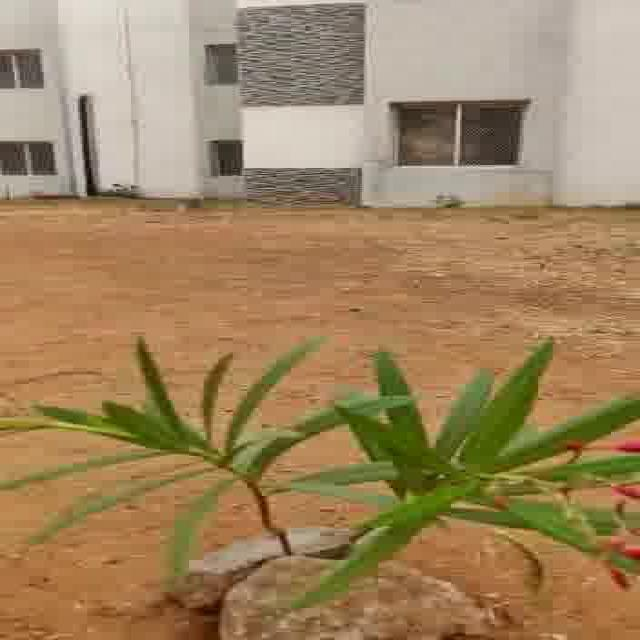Oleander: (43, 323, 640, 561)
